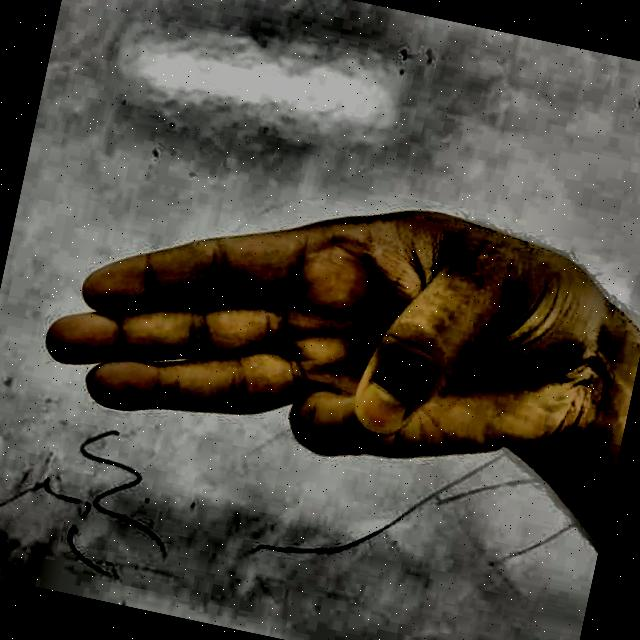Ma: (0, 128, 640, 573)
